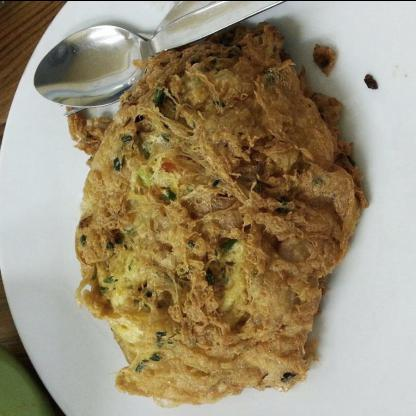Omelette: (65, 20, 364, 404)
